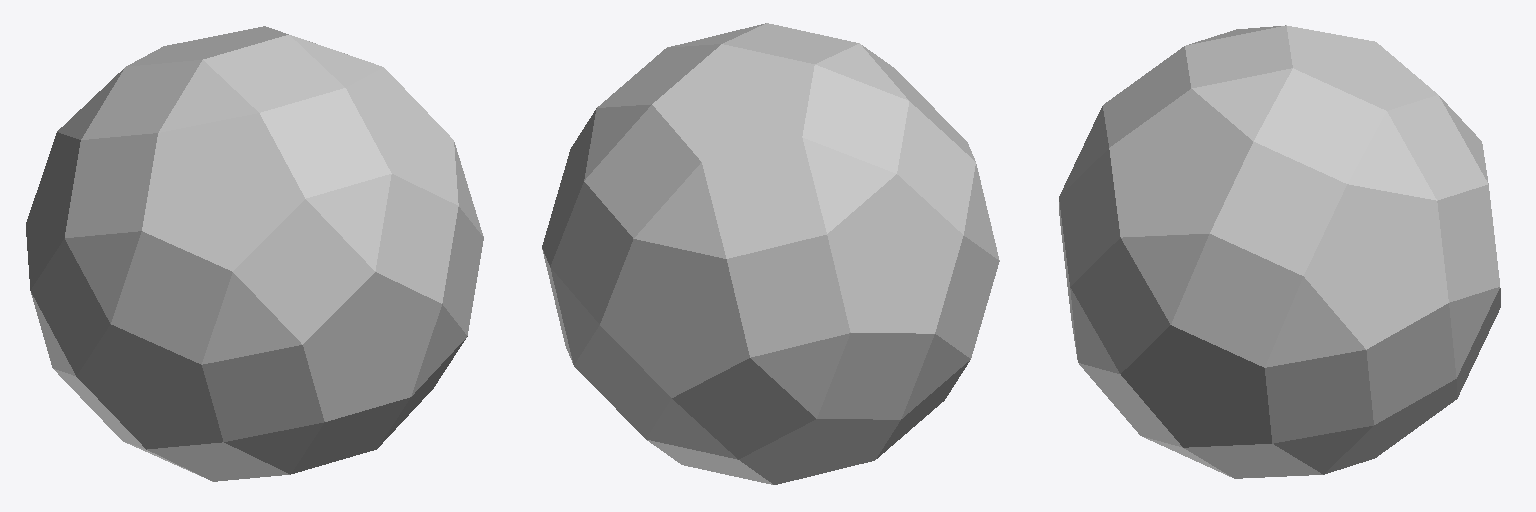
Rendered from MetabiGyrateRhombIcosiDodecahedron.obj.
The picture shows the model from 3 angles: view 1: azimuth 30°, elevation 25°; view 2: azimuth 150°, elevation 25°; view 3: azimuth 270°, elevation 25°; orthographic projection.
Parts seen in each view (by area): view 1: MetaBiGyrateRhombIcosiDodecahedron; view 2: MetaBiGyrateRhombIcosiDodecahedron; view 3: MetaBiGyrateRhombIcosiDodecahedron.
Boxes of the visible parts, x1=… form: MetaBiGyrateRhombIcosiDodecahedron: x1=26, y1=26, x2=483, y2=481; MetaBiGyrateRhombIcosiDodecahedron: x1=542, y1=23, x2=999, y2=484; MetaBiGyrateRhombIcosiDodecahedron: x1=1059, y1=25, x2=1500, y2=478.
Bounding box in the file's own units: 3.28 × 3.31 × 3.2.